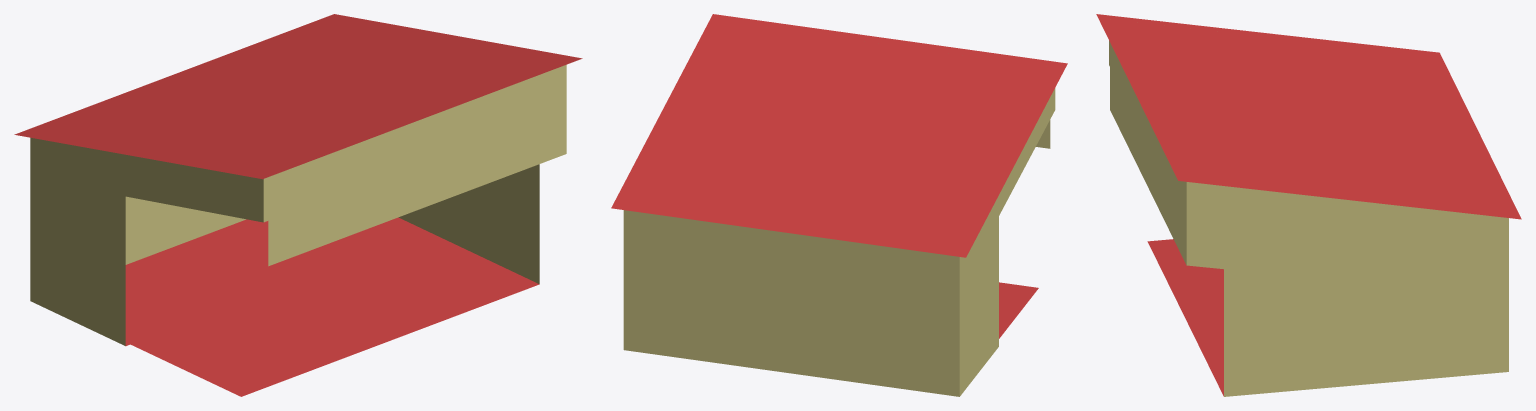
The picture shows the model from 3 angles, left to right: view 1: azimuth 30°, elevation 25°; view 2: azimuth 150°, elevation 25°; view 3: azimuth 270°, elevation 25°; orthographic projection. The views are drawn at different scales.
Size of the model in its own units: 21.74 by 19.84 by 11.56.
